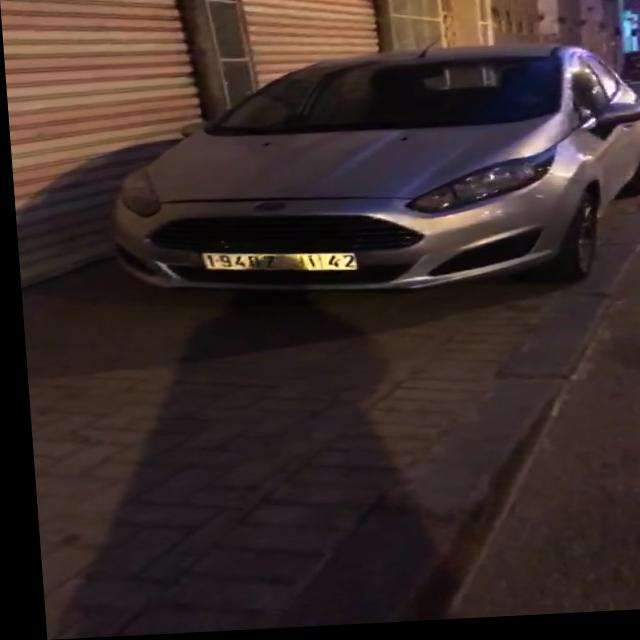License-Plate: (199, 256, 352, 273)
